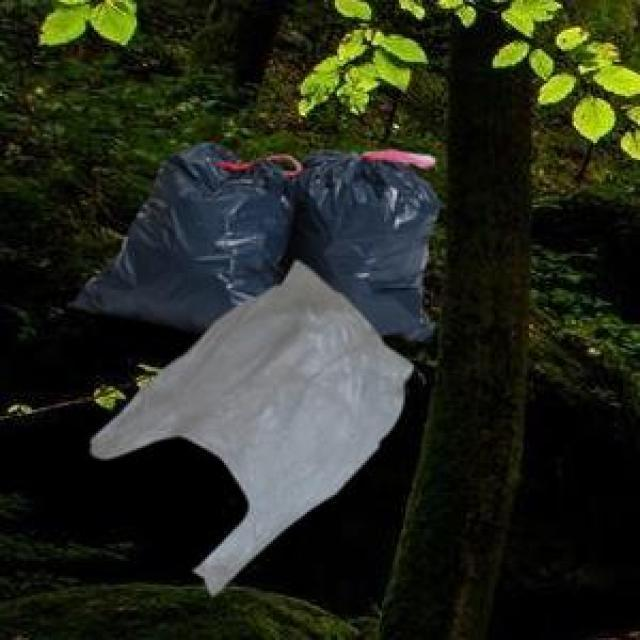miscellaneous trash: (66, 139, 435, 337)
